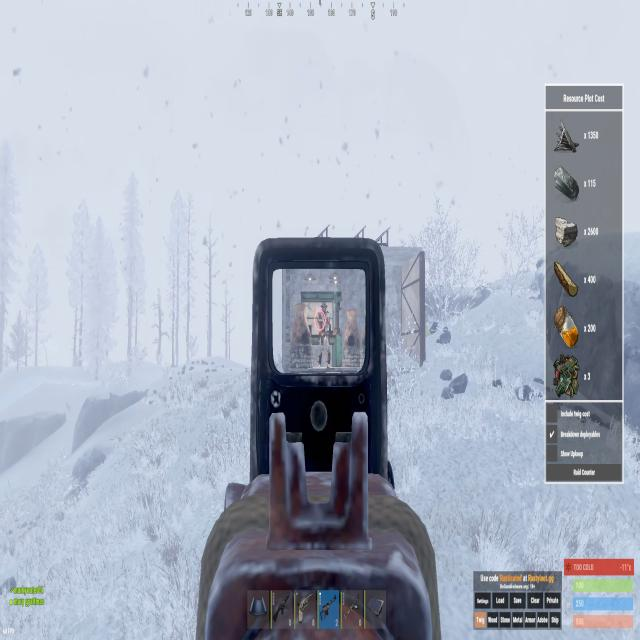Player: (317, 302, 333, 369)
